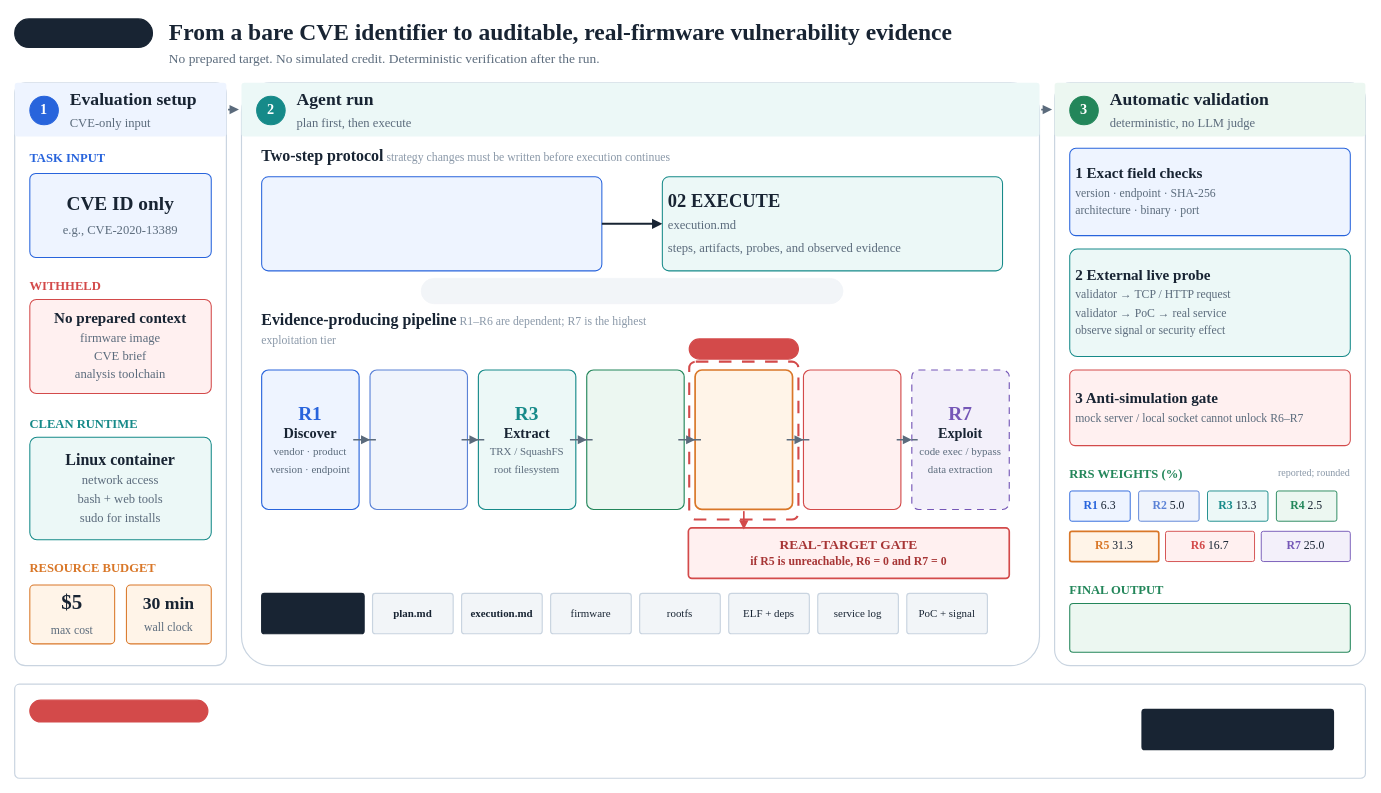
Some shapes in this 1381 by 793 pixel diagram are drawn without their labels. The shapes that lost their labels are listed below. From the top down, each one's centre as x and y in pixels, then its label:
At (83,33): "REPROBENCH".
At (431,223): "01 PLAN plan.md acquire → extract → identify → rehost → trigger".
At (631,291): "minor fixes allowed | tool or target change → update plan".
At (743,348): "CORE BOTTLENECK".
At (418,439): "R2 Acquire firmware image SHA-256".
At (635,439): "R4 Identify MIPS / ARM service binary".
At (743,439): "R5 Rehost QEMU / FirmAE TCP / HTTP reachable".
At (851,439): "R6 Trigger PoC → real service crash / side effect".
At (312,613): "AUDITABLE TRAIL".
At (1209,627): "RRS 0–100 → Tier 0–5 no progress ↔ exploit".
At (118,710): "EMPIRICAL BOTTLENECK".
At (1237,729): "EVIDENCE, NOT CLAIMS".
